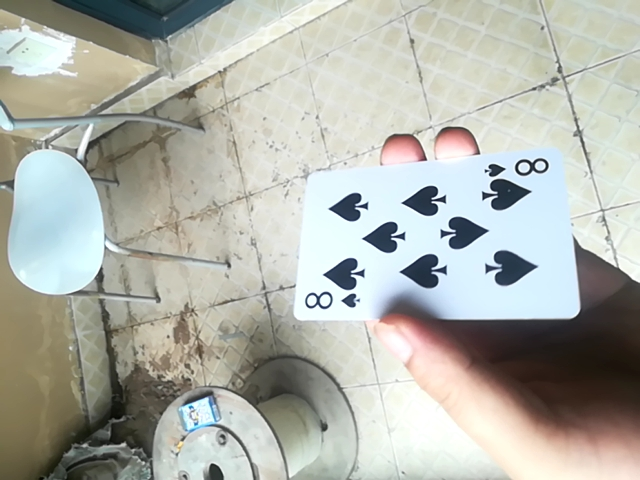ht 8: (290, 144, 590, 325)
